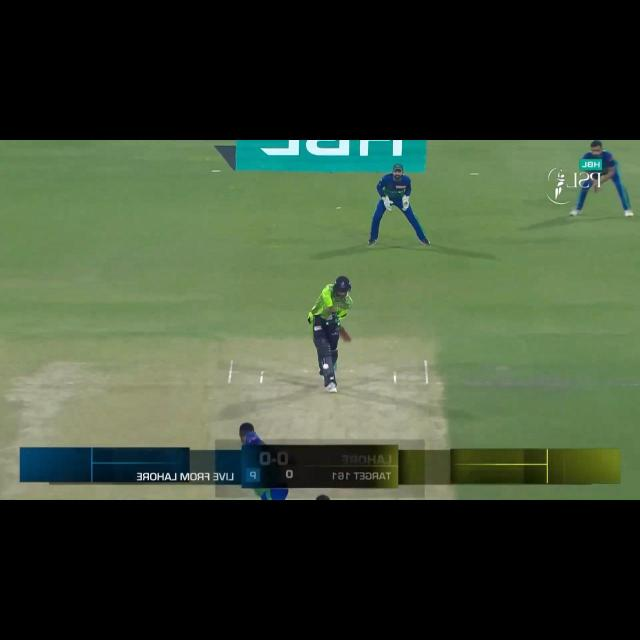bat: (336, 322, 351, 343)
toe: (342, 336, 350, 343)
